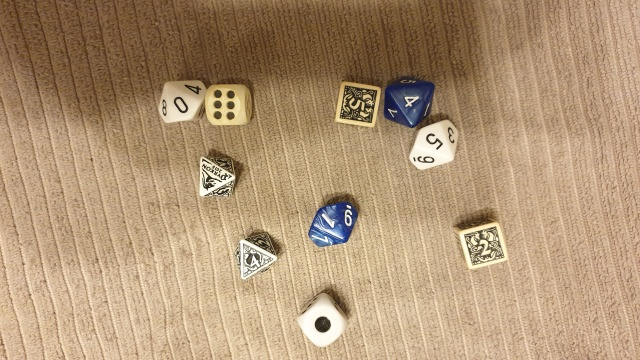d10-1: (305, 199, 362, 253)
d10-10: (153, 72, 205, 129)
d10-4: (382, 73, 437, 130)
d10-5: (409, 117, 462, 178)
d6-1: (292, 291, 350, 353)
d6-6: (203, 80, 251, 128)
d6p-2: (450, 214, 509, 271)
d6p-5: (331, 77, 382, 131)
d8p-1: (193, 153, 238, 202)
d8p-4: (232, 229, 279, 281)
